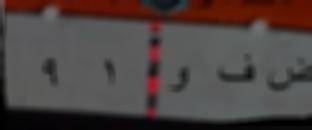1: (97, 55, 122, 90)
9: (38, 54, 65, 94)
daad: (267, 50, 312, 91)
faa: (213, 51, 258, 88)
waw: (165, 61, 192, 98)
